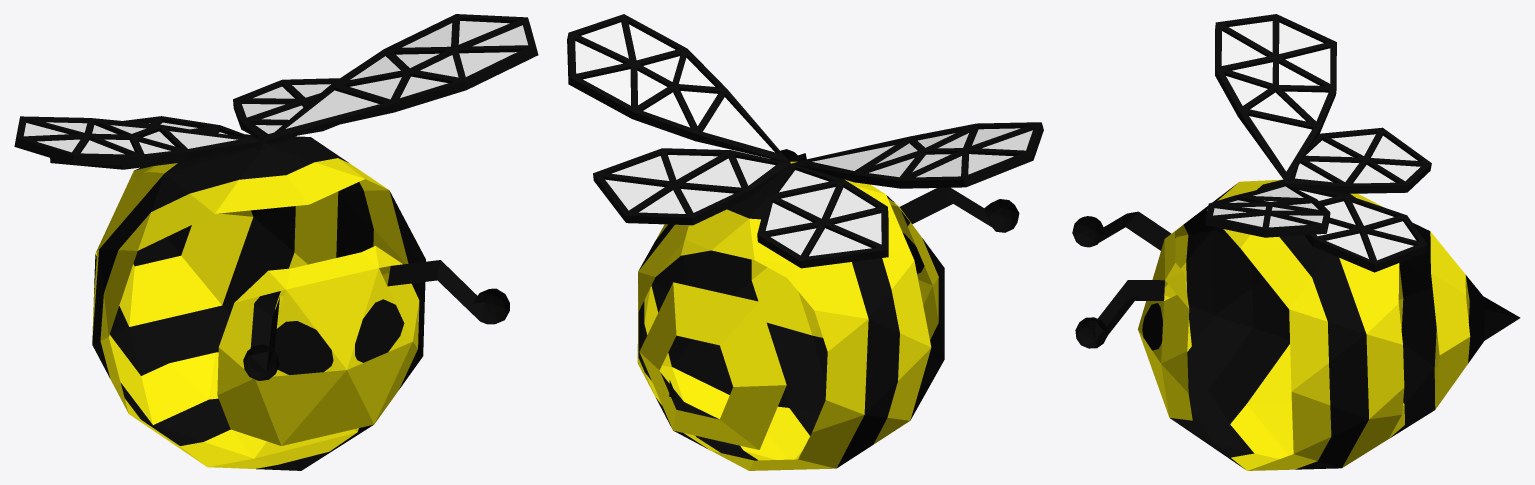
Rendered from Bee.glb.
3 renders of one model, left to right at view 1: azimuth 30°, elevation 25°; view 2: azimuth 150°, elevation 25°; view 3: azimuth 270°, elevation 25°, orthographic. The views are drawn at different scales.
Parts seen in each view (by area): view 1: Bee; view 2: Bee; view 3: Bee.
Part boxes in pixels (x1,y1,x2,y2): Bee: (14, 14, 538, 470); Bee: (567, 14, 1043, 470); Bee: (1072, 14, 1520, 470).
Bounding box in the file's own units: 15.35 × 11.3 × 13.32.
